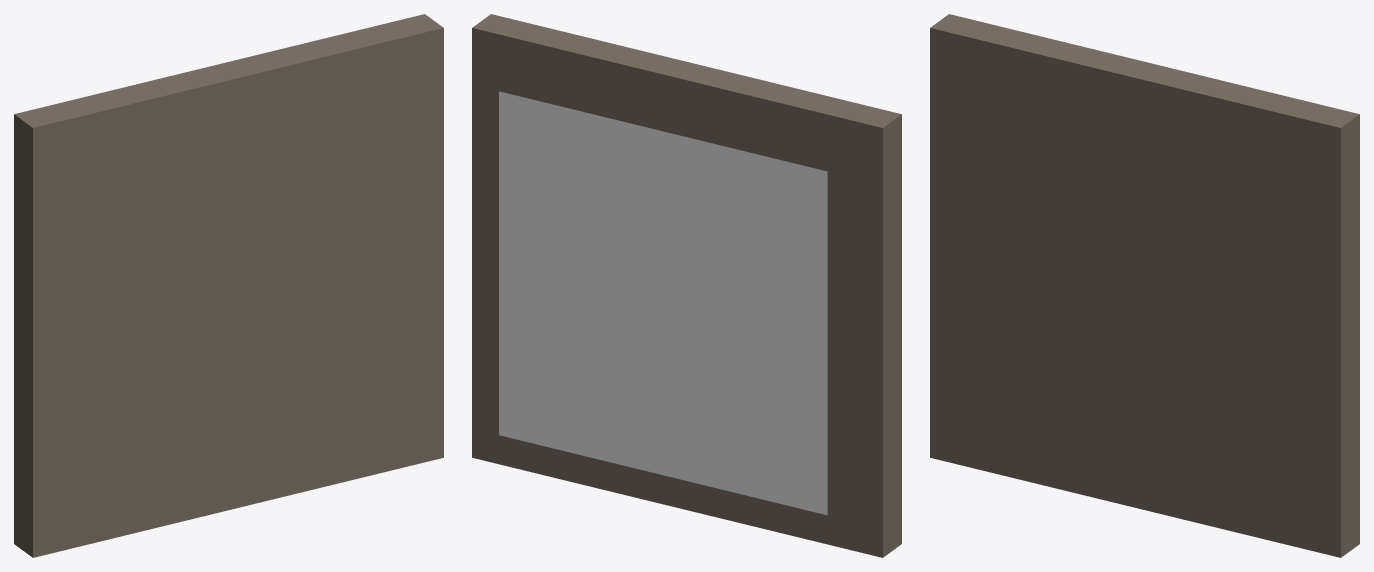
The model's file is frame_calendar.glb.
3 views of the same model, side by side, from view 1: azimuth 30°, elevation 25°; view 2: azimuth 150°, elevation 25°; view 3: azimuth 330°, elevation 25° (orthographic).
Visible parts, largest first — view 1: Frame; view 2: Picture, Frame; view 3: Frame.
Part boxes in pixels (bbox=[...]): Frame: bbox=[14, 14, 443, 557]; Picture: bbox=[499, 91, 827, 515]; Frame: bbox=[472, 14, 901, 557]; Frame: bbox=[930, 14, 1359, 557].
Size of the model in its own units: 0.5 by 0.5 by 0.07.
